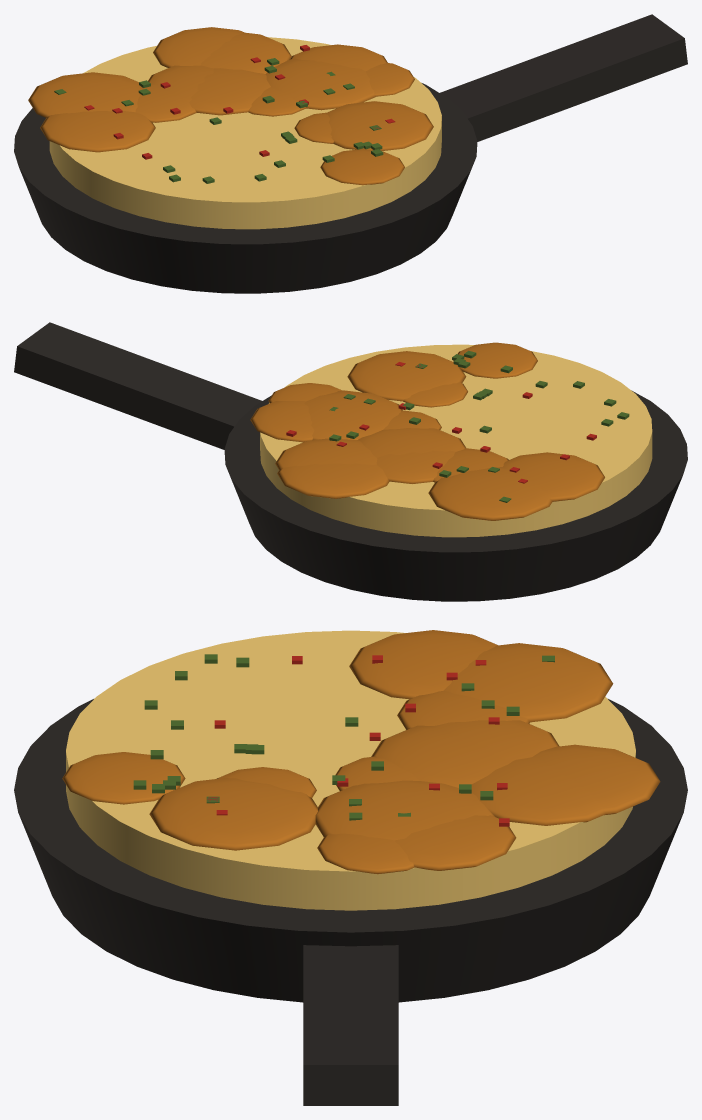
File: provoleta.glb
3 views of the same model, one above another, from view 1: azimuth 30°, elevation 25°; view 2: azimuth 150°, elevation 25°; view 3: azimuth 270°, elevation 25° (orthographic). The views are drawn at different scales.
Size of the model in its own units: 0.2433 by 0.0346 by 0.156.
